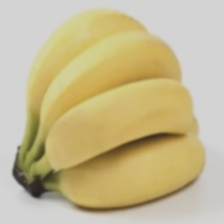banana: (16, 16, 178, 189)
